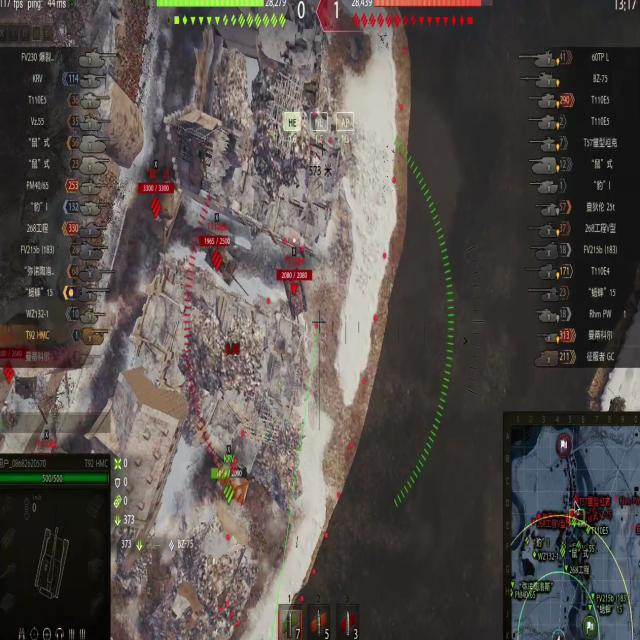tank: (137, 181, 189, 250), (276, 268, 319, 320), (200, 234, 243, 284)
